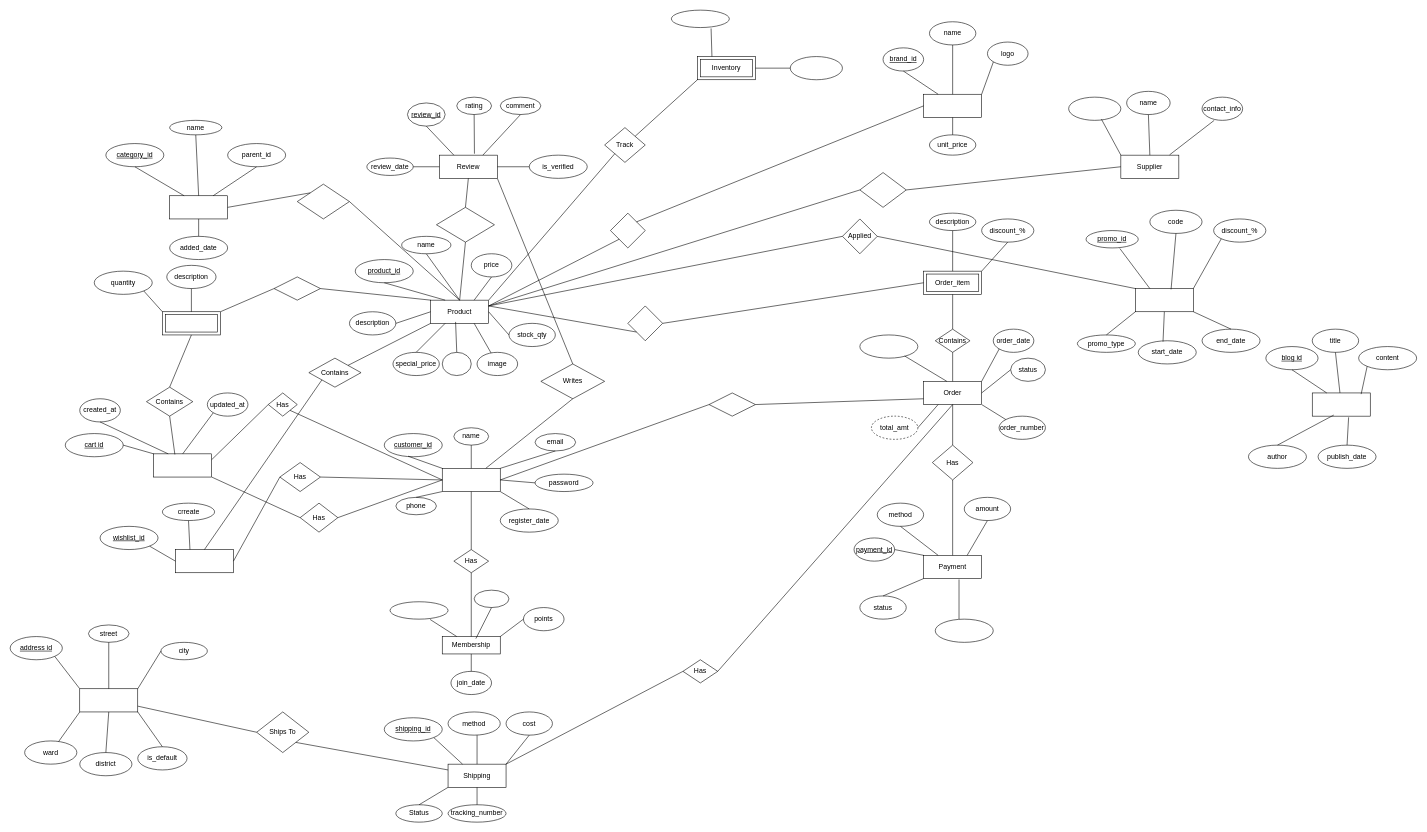
Some shapes in this 1427 by 832 pixel diagram are drawn without their labels. Each missing label, with the centre of its shape:
"Address" goes at pixel 108 700.
"Adds" goes at pixel 296 288.
"Belongs" goes at pixel 323 201.
"Blog" goes at pixel 1341 404.
"Brand" goes at pixel 952 105.
"Cart" goes at pixel 182 465.
"Cart_item" goes at pixel 191 323.
"Category" goes at pixel 198 207.
"Customer" goes at pixel 471 480.
"Includes" goes at pixel 645 323.
"last_update" goes at pixel 816 68.
"level" goes at pixel 491 599.
"Made By" goes at pixel 627 230.
"member_id" goes at pixel 418 610.
"order id" goes at pixel 888 346.
"payment_date" goes at pixel 964 630.
"Places" goes at pixel 731 404.
"Promotion" goes at pixel 1164 300.
"quality" goes at pixel 700 19.
"Reviews" goes at pixel 465 224.
"SKU" goes at pixel 456 364.
"supplier_id" goes at pixel 1094 108.
"Supplies" goes at pixel 882 189.
"Wishlist" goes at pixel 204 561.
